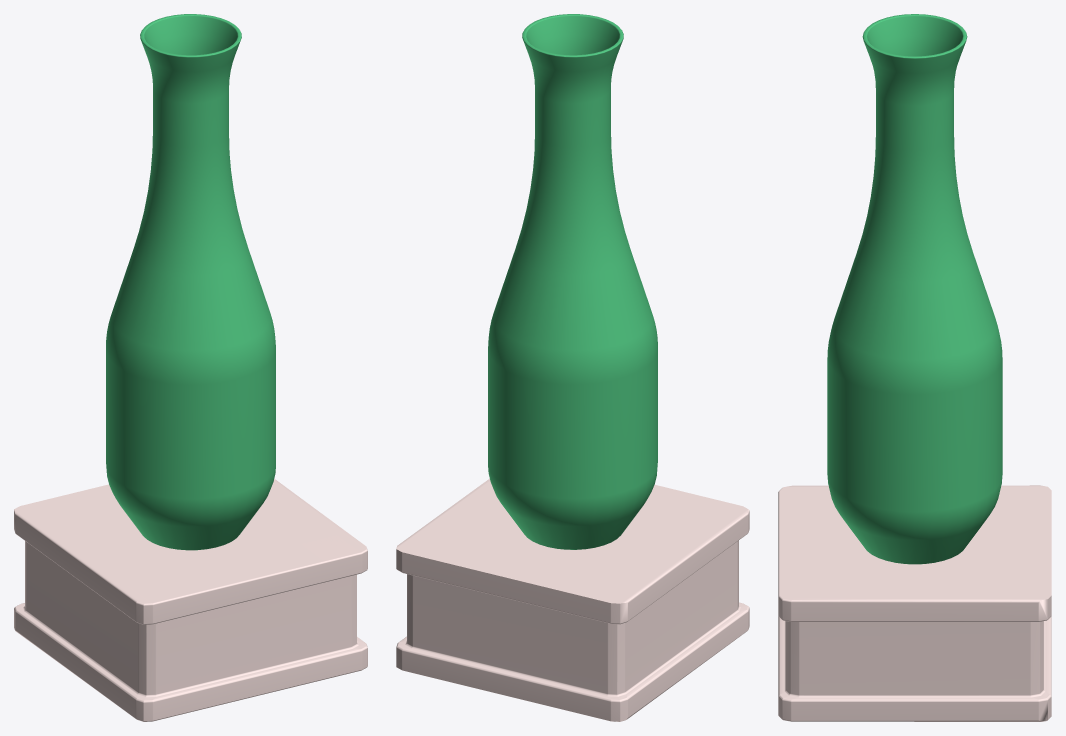
File: Public_9_Exhibit_Vase_2.glb
3 views of the same model, side by side, from view 1: azimuth 30°, elevation 25°; view 2: azimuth 150°, elevation 25°; view 3: azimuth 270°, elevation 25° (orthographic). The views are drawn at different scales.
Visible parts, largest first — view 1: Public_9_Exhibit_Vase_2; view 2: Public_9_Exhibit_Vase_2; view 3: Public_9_Exhibit_Vase_2.
Part boxes in pixels (box(x1,y1,x2,y2)): Public_9_Exhibit_Vase_2: box(14, 14, 367, 721); Public_9_Exhibit_Vase_2: box(396, 14, 749, 721); Public_9_Exhibit_Vase_2: box(778, 14, 1051, 721).
Bounding box in the file's own units: 1.37 × 3.47 × 1.37.
1 material, 1 textured.
